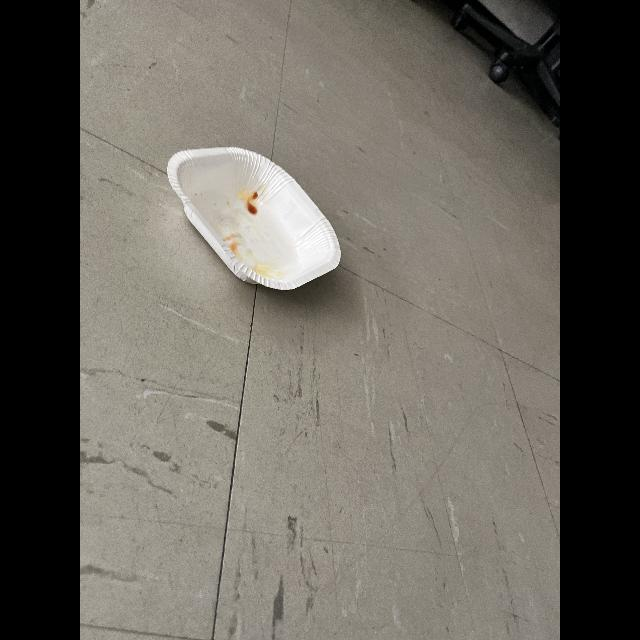cardboard_bowl: (153, 137, 354, 309)
